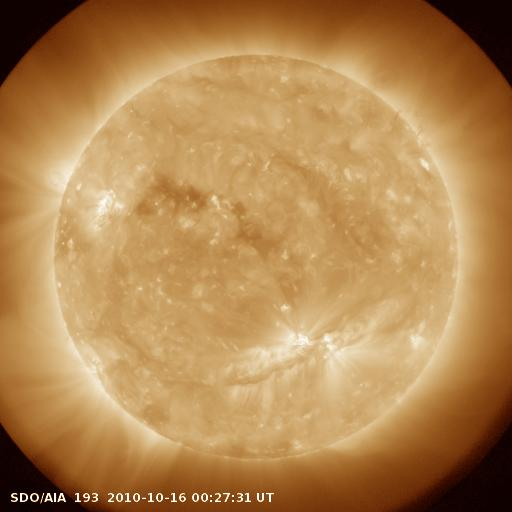coronal_hole: (131, 173, 221, 215)
